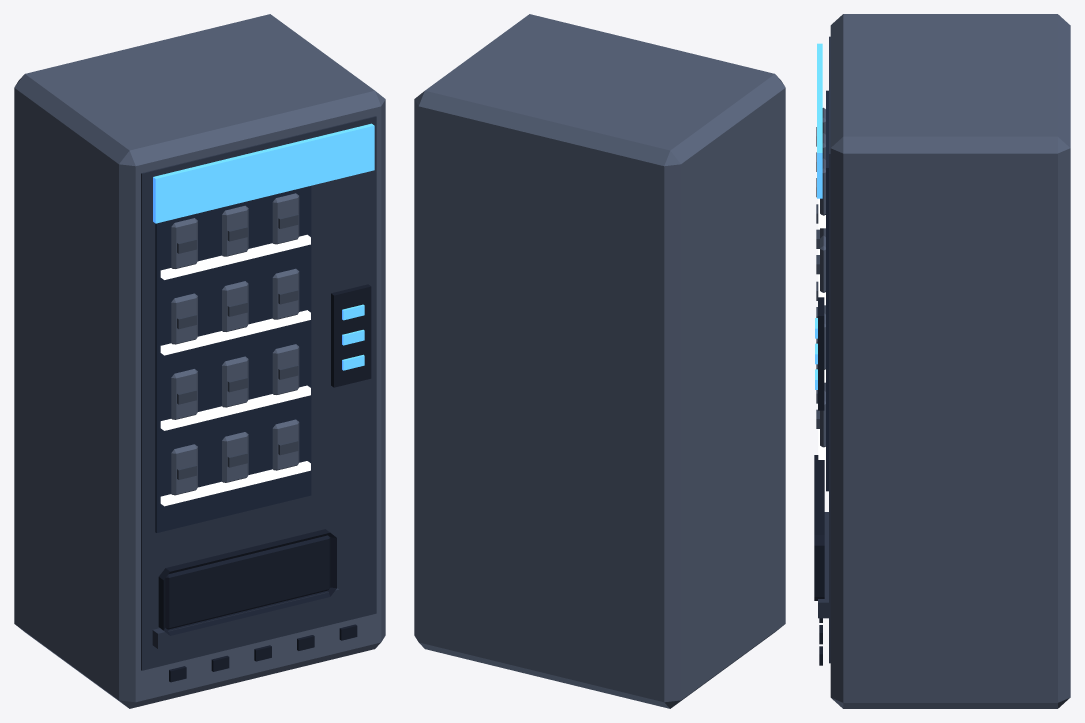
Rendered from city_vending.glb.
3 renders of one model, left to right at view 1: azimuth 30°, elevation 25°; view 2: azimuth 150°, elevation 25°; view 3: azimuth 270°, elevation 25°, orthographic. The views are drawn at different scales.
Parts seen in each view (by area): view 1: cabinet, front_recess, display, pickup, header, keypad, pickup_lip, shelf, shelf.002, shelf.003, shelf.001, product.008 (+11 smaller); view 2: cabinet; view 3: cabinet, pickup, front_recess, display, header, keypad, pickup_lip.
Boxes of the visible parts, x1=… form: cabinet: x1=14, y1=14, x2=385, y2=708; front_recess: x1=141, y1=116, x2=376, y2=670; display: x1=155, y1=186, x2=311, y2=532; pickup: x1=158, y1=529, x2=336, y2=635; header: x1=153, y1=123, x2=374, y2=223; keypad: x1=331, y1=284, x2=371, y2=387; pickup_lip: x1=152, y1=588, x2=339, y2=648; shelf: x1=160, y1=461, x2=310, y2=506; shelf.002: x1=160, y1=310, x2=310, y2=355; shelf.003: x1=160, y1=234, x2=310, y2=279; shelf.001: x1=160, y1=385, x2=310, y2=430; product.008: x1=272, y1=268, x2=299, y2=319; cabinet: x1=414, y1=14, x2=785, y2=708; cabinet: x1=830, y1=14, x2=1070, y2=708; pickup: x1=814, y1=455, x2=824, y2=600; front_recess: x1=829, y1=36, x2=830, y2=663; display: x1=826, y1=90, x2=828, y2=491; header: x1=817, y1=43, x2=822, y2=198; keypad: x1=818, y1=297, x2=824, y2=410; pickup_lip: x1=818, y1=512, x2=828, y2=618.
Size of the model in its own units: 1 by 2 by 0.811.
